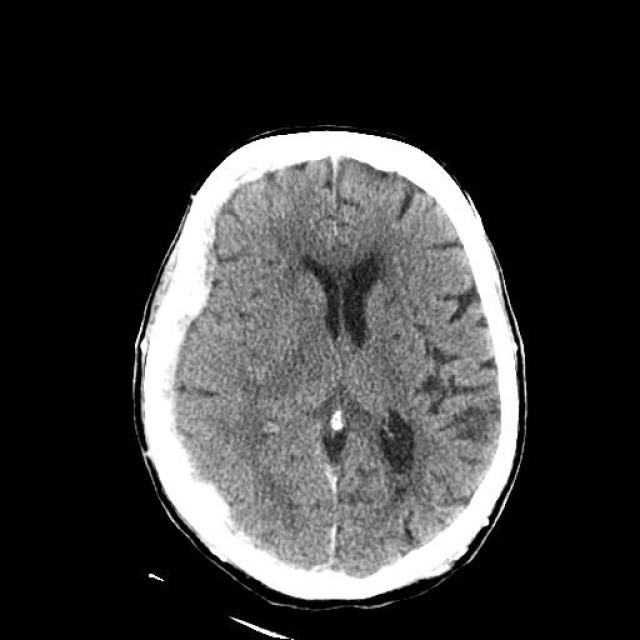Subdural: (175, 156, 283, 332)
